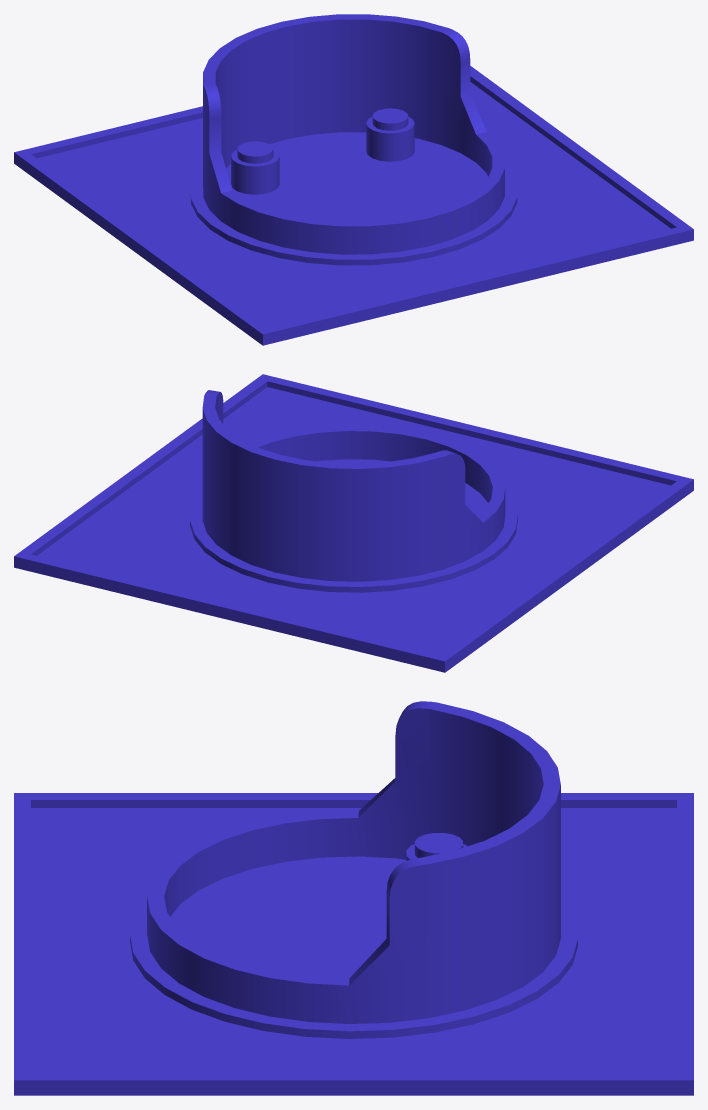
The model's file is Ceiling_A_4x4m_LadderEnd.FBX.
3 renders of one model, top to bottom at view 1: azimuth 30°, elevation 25°; view 2: azimuth 150°, elevation 25°; view 3: azimuth 270°, elevation 25°, orthographic. The views are drawn at different scales.
Parts seen in each view (by area): view 1: Ceiling_A_4x4m_LadderEnd; view 2: Ceiling_A_4x4m_LadderEnd; view 3: Ceiling_A_4x4m_LadderEnd.
Part boxes in pixels (x1,y1,x2,y2): Ceiling_A_4x4m_LadderEnd: [14, 14, 693, 345]; Ceiling_A_4x4m_LadderEnd: [14, 374, 693, 672]; Ceiling_A_4x4m_LadderEnd: [14, 701, 693, 1095].
Size of the model in its own units: 400 by 110 by 400.
